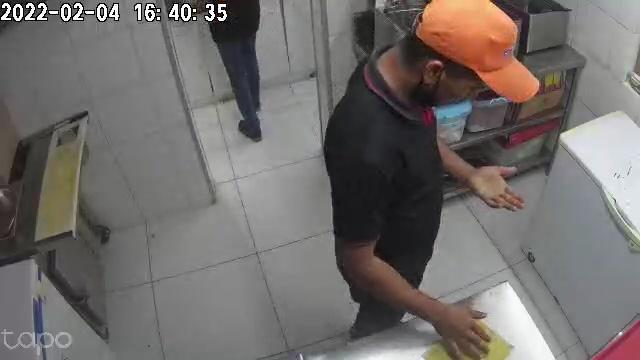no_gloves: (467, 166, 525, 213)
